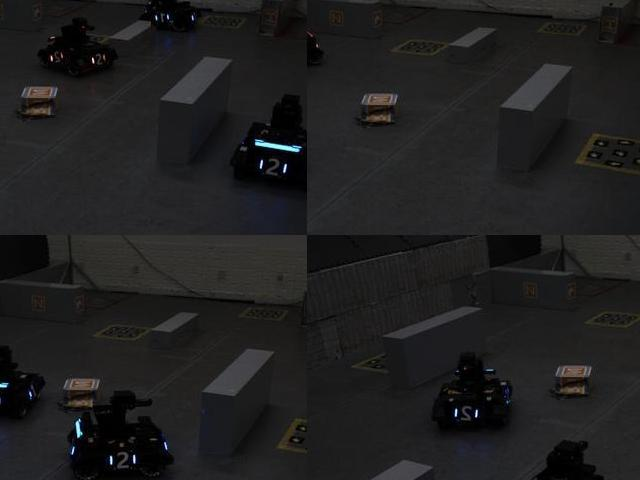armor: (252, 152, 290, 181), (102, 447, 142, 473), (452, 401, 483, 426), (82, 47, 113, 70), (48, 46, 67, 69), (152, 11, 175, 28), (0, 391, 7, 414)
